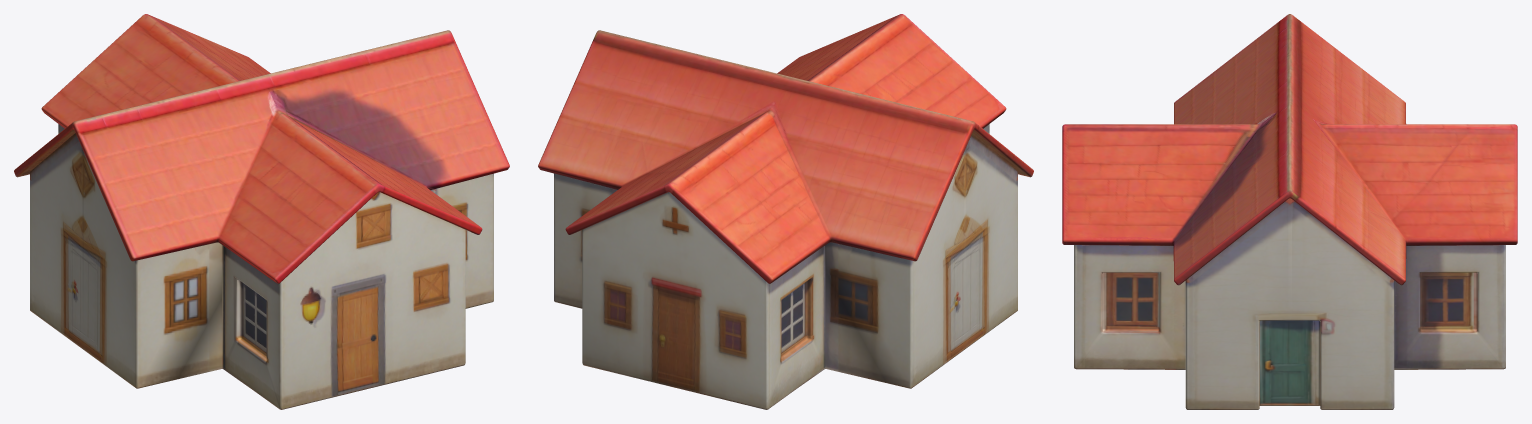
File: Casita_0415215502_texture.fbx
3 views of the same model, side by side, from view 1: azimuth 30°, elevation 25°; view 2: azimuth 150°, elevation 25°; view 3: azimuth 270°, elevation 25° (orthographic). The views are drawn at different scales.
Visible parts, largest first — view 1: Casita; view 2: Casita; view 3: Casita.
Boxes of the visible parts, x1=… form: Casita: x1=14, y1=14, x2=509, y2=409; Casita: x1=538, y1=14, x2=1033, y2=409; Casita: x1=1062, y1=14, x2=1517, y2=409.
Bounding box in the file's own units: 186 × 108 × 200.
1 material, 1 textured.
